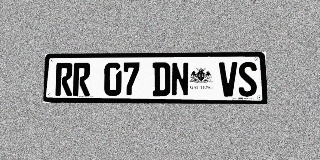0: (104, 62, 122, 96)
7: (122, 62, 140, 96)
D: (152, 62, 170, 96)
N: (171, 62, 189, 96)
R: (55, 63, 73, 96), (73, 63, 91, 96)
S: (238, 62, 257, 97)
V: (219, 62, 238, 96)
